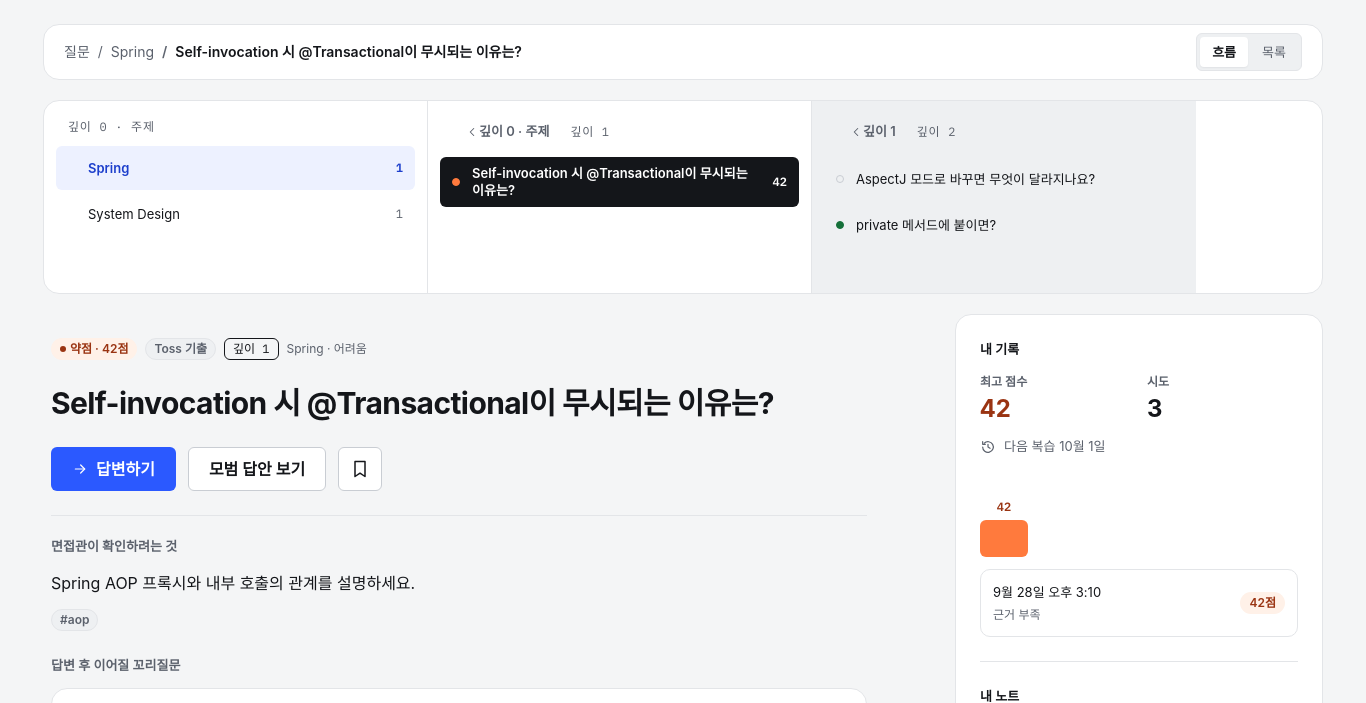
QuestionWorkspacePage › browses another topic without leaving the question
This screenshot has width=1366, height=703.
Click the option "System Design 1". click: (134, 214)
box: [88, 206, 403, 222]
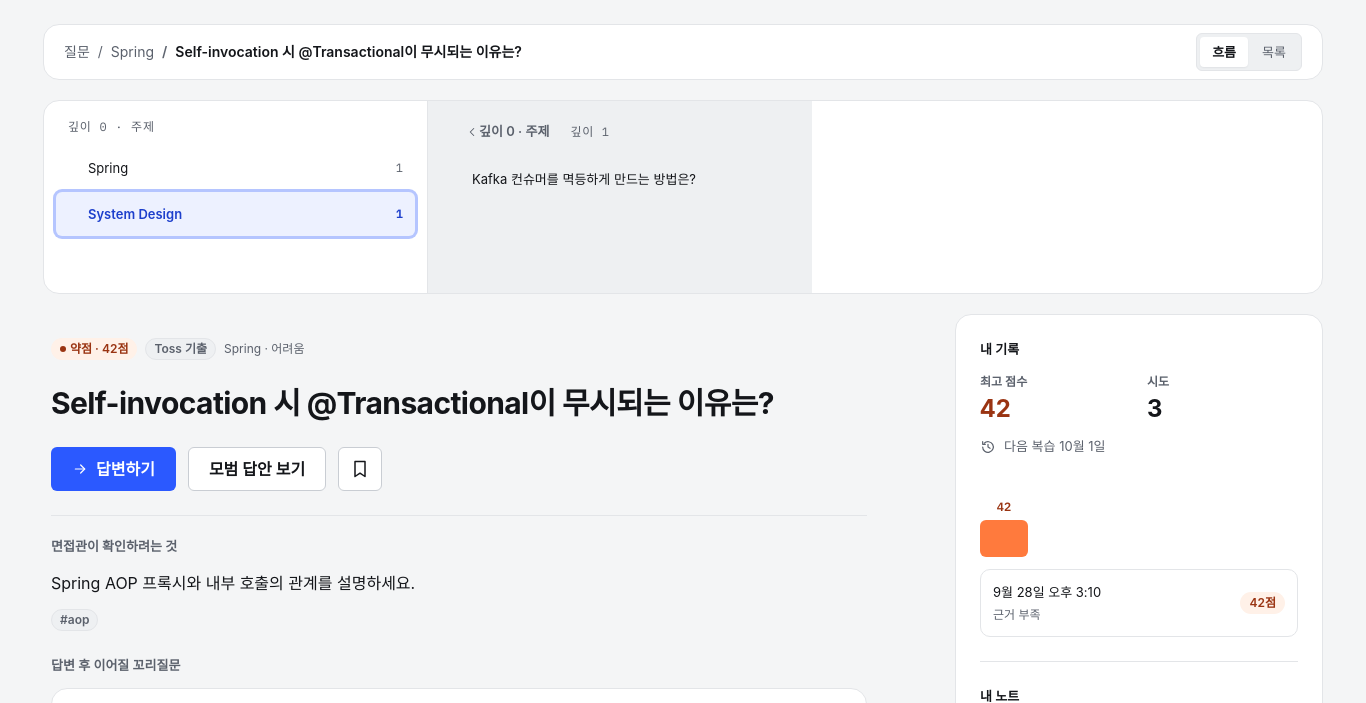
Expected: the option "Kafka 컨슈머를 멱등하게 만드는 방법은?" is shown, [472, 170, 696, 186]
Expected: the option "Self-invocation 시 @Transactional이 무시되는 이유는? 42" is gone
Expected: the text "깊이 2" is gone
